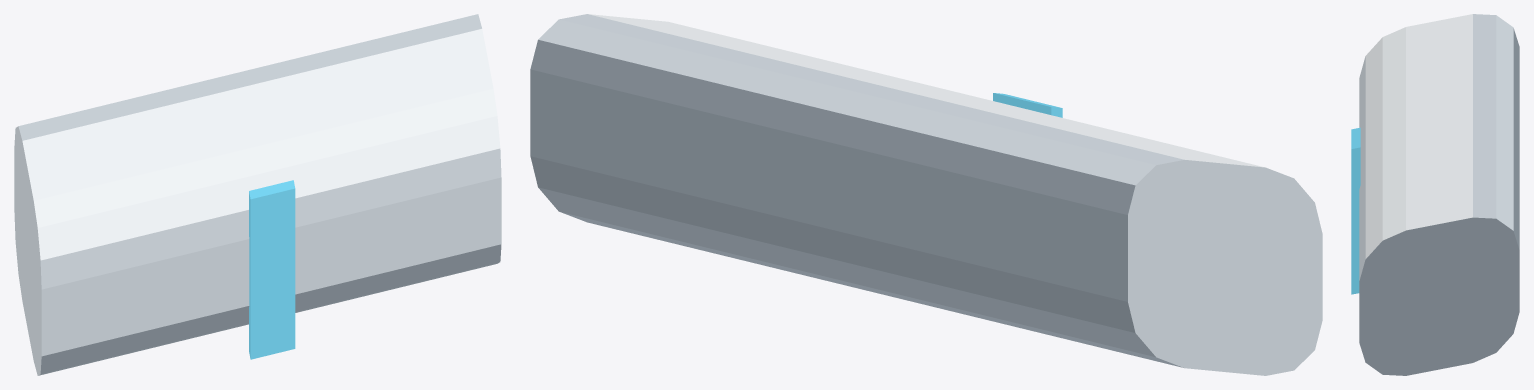
Rendered from Door_LeafFolded.gltf.
3 renders of one model, left to right at view 1: azimuth 30°, elevation 25°; view 2: azimuth 150°, elevation 25°; view 3: azimuth 270°, elevation 25°, orthographic. The views are drawn at different scales.
Visible parts, largest first — view 1: Door_LeafFolded_baked; view 2: Door_LeafFolded_baked; view 3: Door_LeafFolded_baked.
Part boxes in pixels (x1,y1,x2,y2): Door_LeafFolded_baked: (14, 14, 501, 375); Door_LeafFolded_baked: (530, 14, 1322, 375); Door_LeafFolded_baked: (1351, 14, 1519, 375).
Size of the model in its own units: 0.816 by 0.3174 by 0.252.
